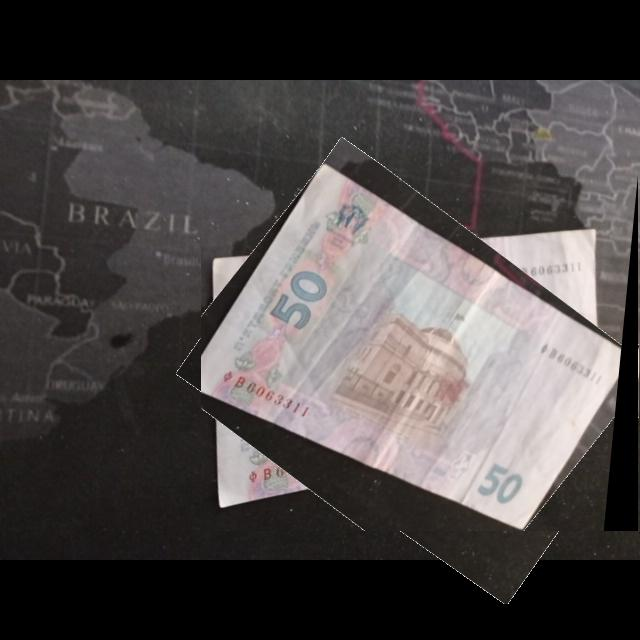50uah: (201, 164, 625, 532)
